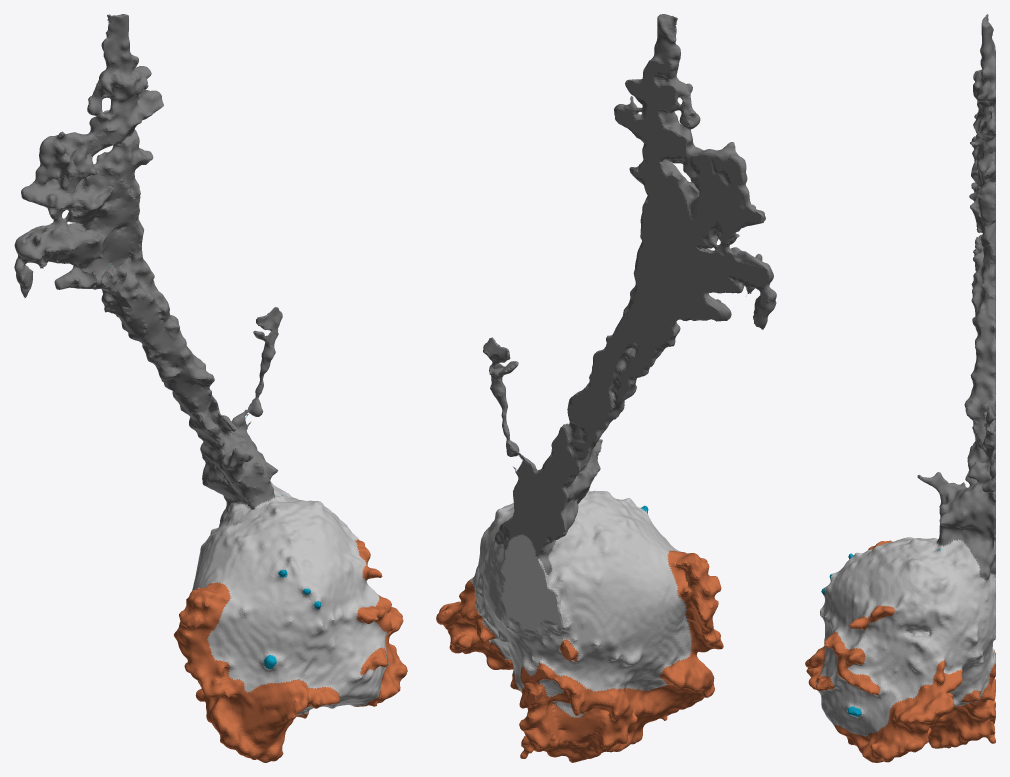
The picture shows the model from 3 angles, left to right: view 1: azimuth 30°, elevation 25°; view 2: azimuth 150°, elevation 25°; view 3: azimuth 270°, elevation 25°; orthographic projection. The views are drawn at different scales.
Size of the model in its own units: 176 by 355 by 89.86.
